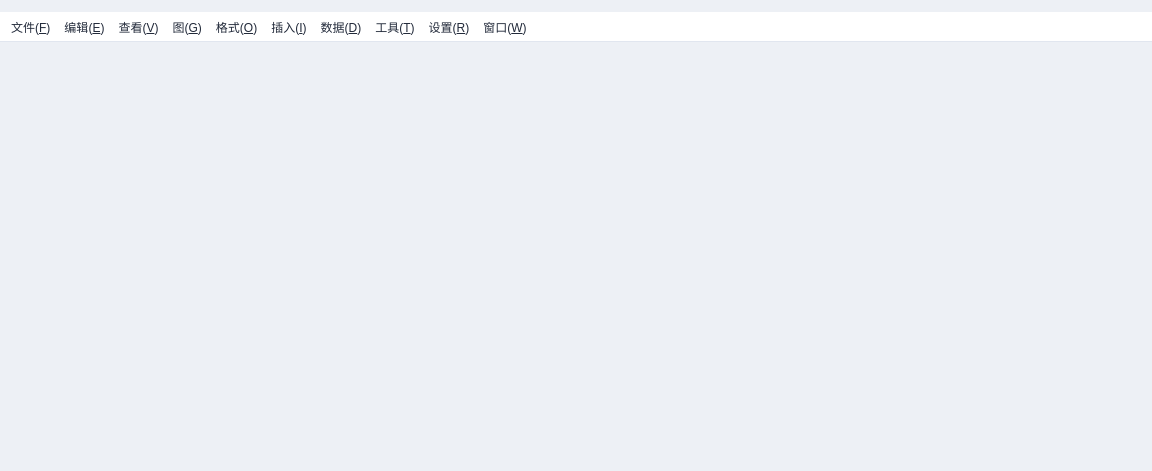
Test case: OriginMenuBar › scrolling a parent closes its fixed-position submenu
Click the button "格式(O)" at {"x": 236, "y": 26}, box [209,12,264,40]
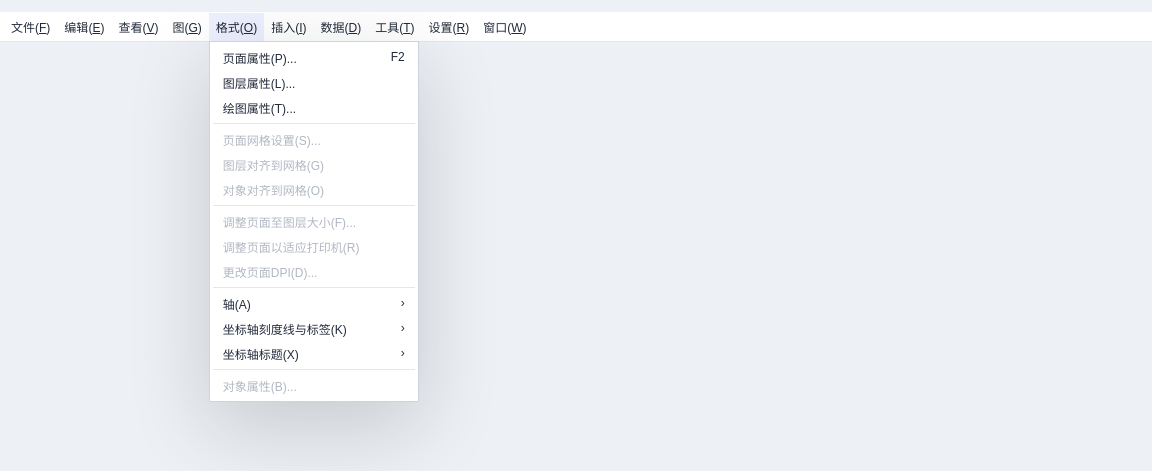
Click the menu item "轴(A) ›" at {"x": 314, "y": 303}, box [213,290,415,316]
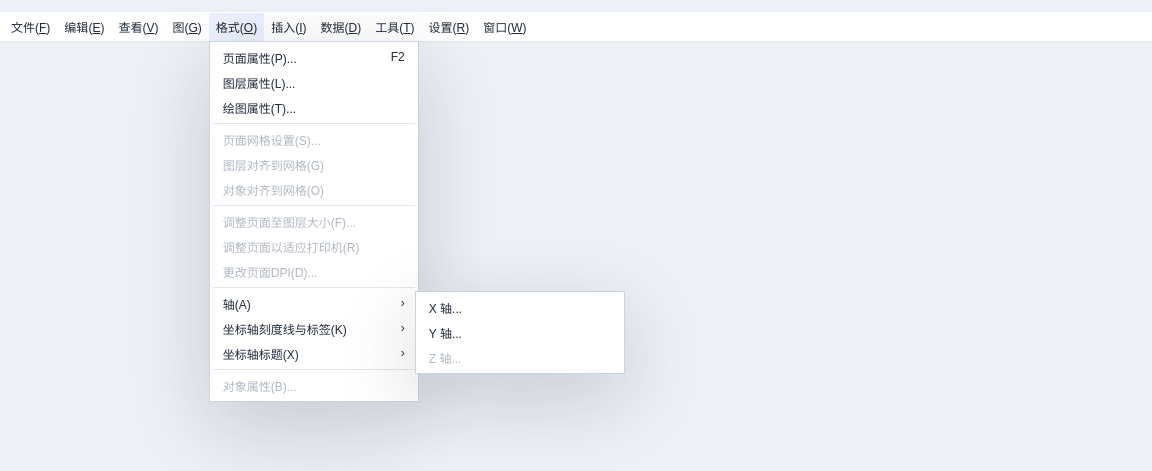
Now the menu item "X 轴..." is shown, box [419,294,621,320]
